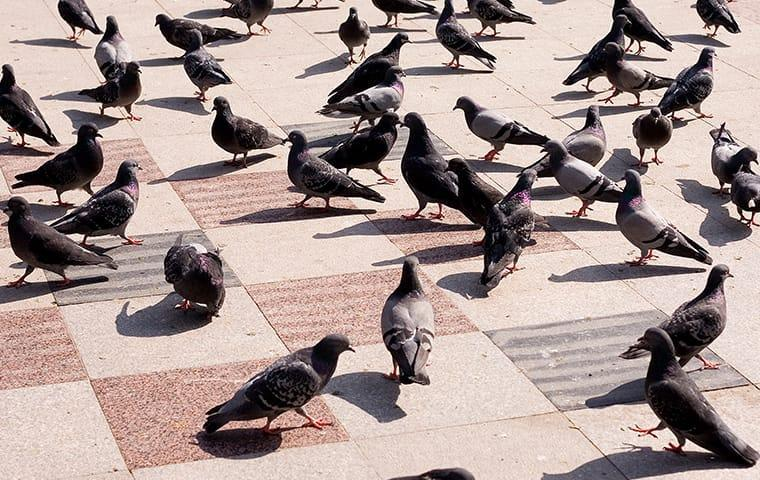Flying Rat: (642, 327, 752, 476), (204, 329, 356, 436), (377, 249, 456, 400), (6, 199, 95, 308), (611, 170, 709, 266), (153, 234, 236, 341), (286, 128, 368, 223), (657, 260, 736, 354), (82, 152, 150, 260), (22, 124, 104, 204), (485, 172, 537, 292), (401, 114, 457, 217), (212, 98, 287, 164), (426, 1, 494, 72), (454, 96, 538, 153), (1, 58, 46, 164), (333, 111, 402, 180), (546, 141, 613, 207), (601, 44, 671, 102), (445, 156, 503, 225), (337, 72, 410, 126), (666, 45, 722, 115), (155, 16, 241, 52), (187, 36, 235, 100), (90, 63, 146, 116), (630, 111, 682, 166), (54, 1, 98, 56), (331, 9, 375, 60), (94, 16, 129, 77), (574, 112, 608, 160)
